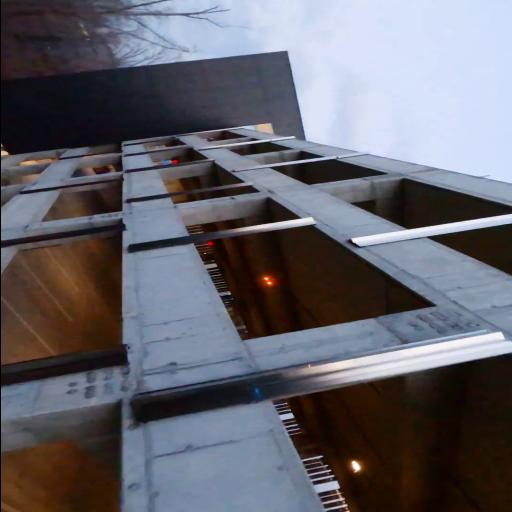uav: (248, 265, 284, 295)
